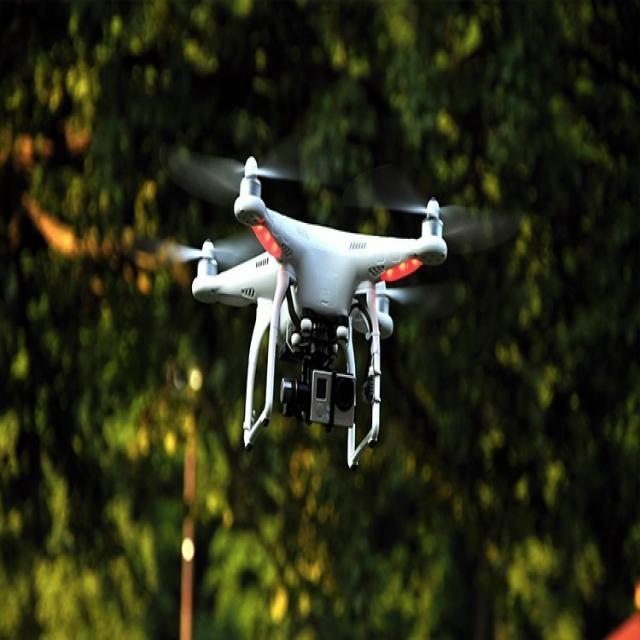drones: (174, 150, 449, 462)
